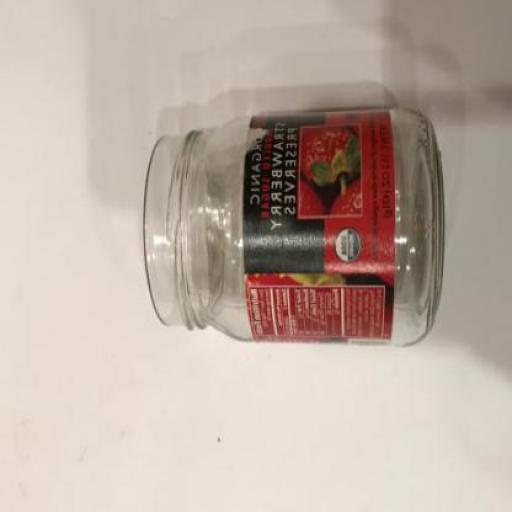glass: (141, 110, 444, 344)
